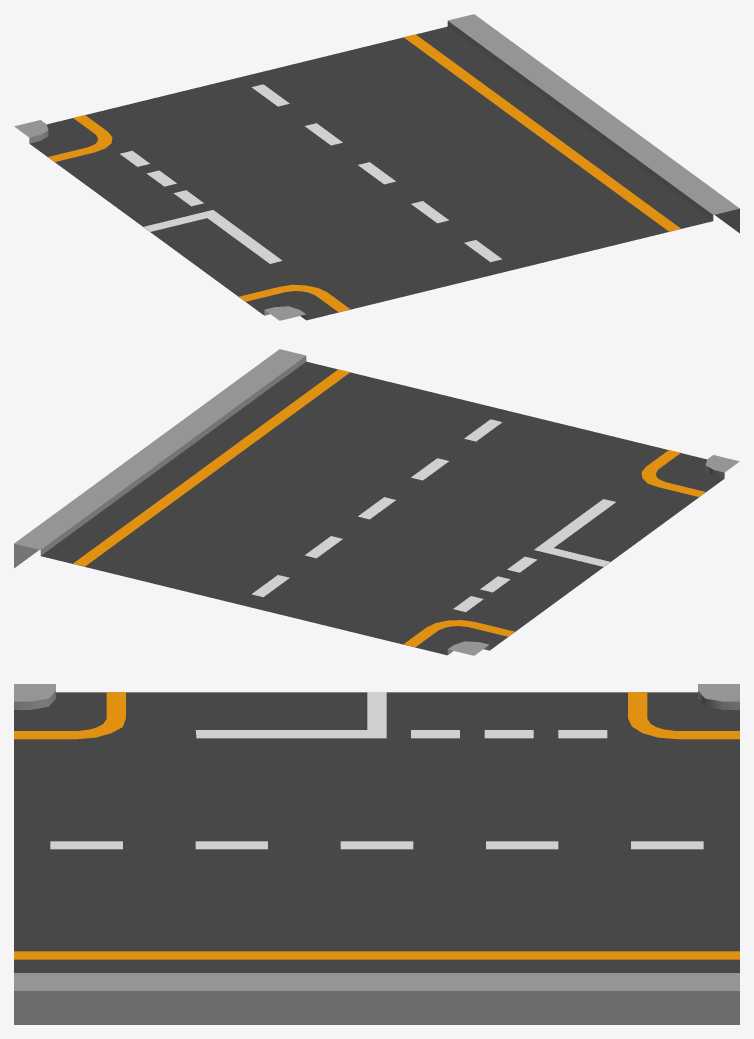
File: Road_A_6.glb
3 renders of one model, top to bottom at view 1: azimuth 30°, elevation 25°; view 2: azimuth 150°, elevation 25°; view 3: azimuth 270°, elevation 25°, orthographic. The views are drawn at different scales.
Visible parts, largest first — view 1: Road_A_6; view 2: Road_A_6; view 3: Road_A_6.
Boxes of the visible parts, box(x1,y1,x2,y2) form: Road_A_6: box(14, 14, 739, 320); Road_A_6: box(14, 349, 739, 655); Road_A_6: box(14, 684, 739, 1024).
Size of the model in its own units: 8 by 0.4148 by 8.
Materials: 1 (1 with a texture image).
